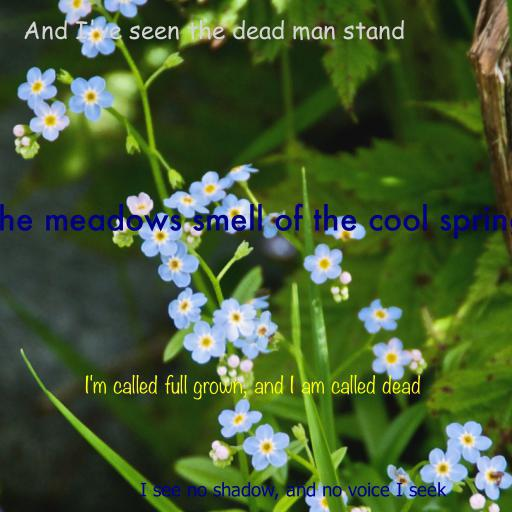Comic Sans MS: (23, 19, 405, 41)
Futura: (0, 203, 512, 239)
Noteworthy: (85, 374, 421, 400)
Tahoma: (140, 482, 446, 500)
